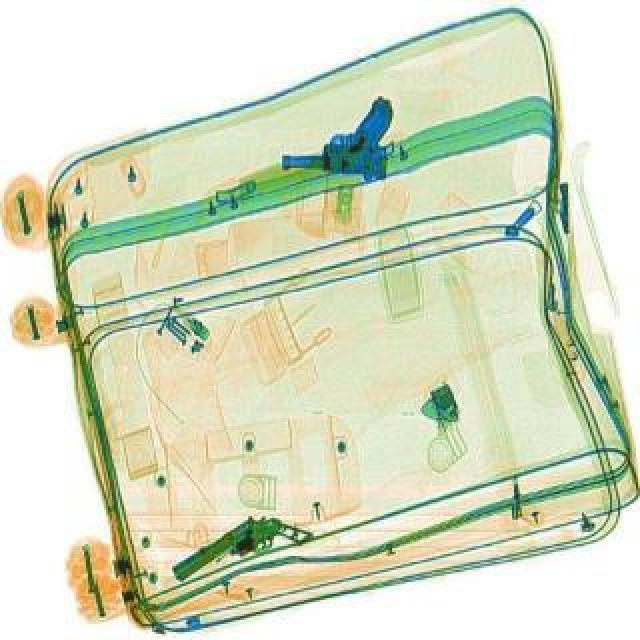gun: (166, 492, 314, 604), (278, 86, 394, 180)
